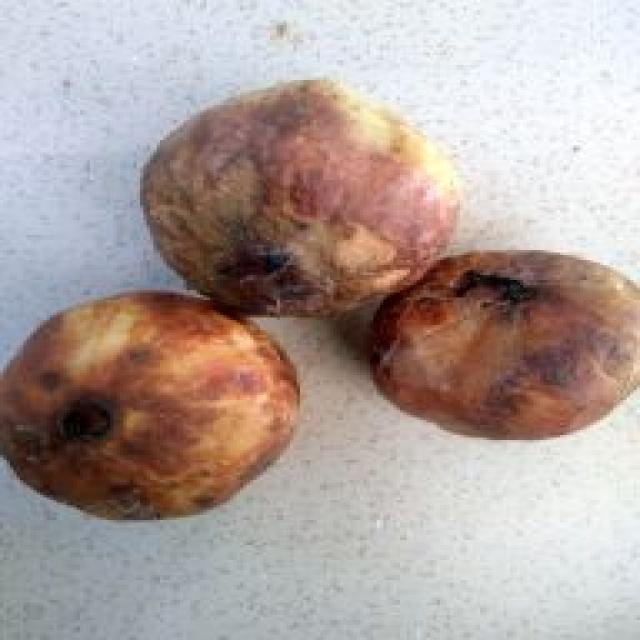Bad_Guava: (140, 78, 463, 320), (2, 291, 298, 518), (375, 252, 638, 438)
